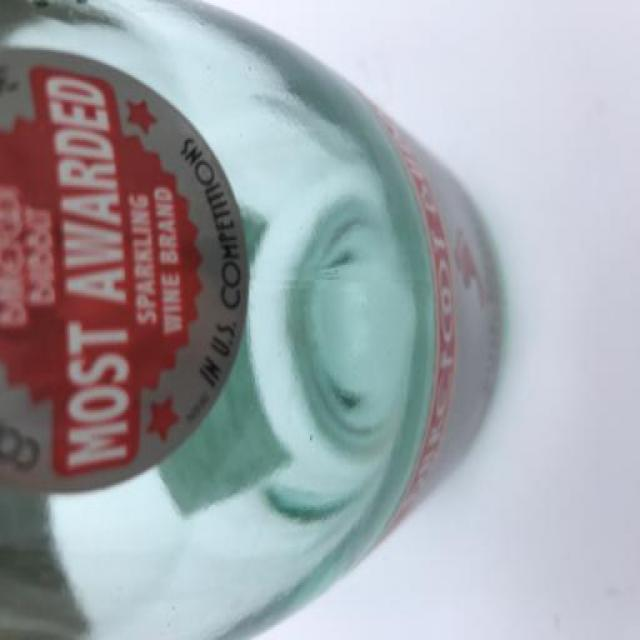Waste: (0, 2, 504, 638)
